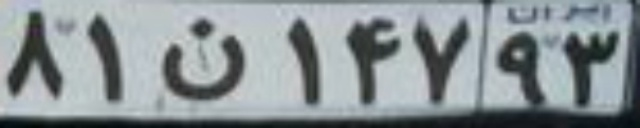1: (83, 13, 125, 102), (286, 16, 320, 104)
3: (560, 29, 619, 107)
4: (342, 17, 399, 104)
7: (412, 14, 469, 104)
8: (7, 9, 65, 101)
9: (495, 32, 544, 104)
non: (158, 17, 245, 101)
